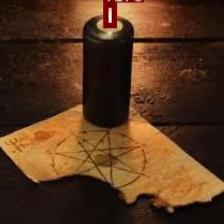fire: (102, 3, 115, 26)
